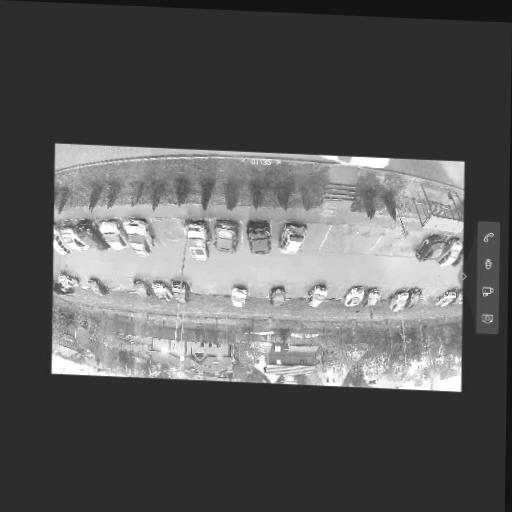busy: (120, 214, 162, 258), (61, 217, 104, 252), (242, 219, 277, 255), (209, 218, 243, 254), (95, 217, 129, 252), (278, 222, 313, 255), (414, 233, 451, 262), (55, 221, 86, 252), (386, 286, 421, 313), (224, 283, 255, 310), (148, 279, 178, 306), (305, 282, 333, 308), (54, 270, 82, 294), (340, 285, 370, 307), (358, 286, 386, 308), (80, 277, 109, 297), (265, 284, 290, 307), (434, 287, 460, 308), (444, 238, 464, 265), (167, 281, 190, 303), (131, 278, 154, 299)
free: (154, 218, 186, 248), (324, 223, 354, 254), (350, 226, 379, 254), (188, 276, 211, 302), (302, 224, 325, 250), (284, 281, 310, 302), (401, 231, 422, 254), (380, 230, 399, 253), (211, 279, 232, 299), (100, 274, 121, 294), (325, 282, 344, 302), (73, 273, 92, 293), (428, 286, 446, 305), (249, 283, 268, 300), (378, 285, 393, 303), (419, 286, 432, 305), (120, 277, 134, 293)
